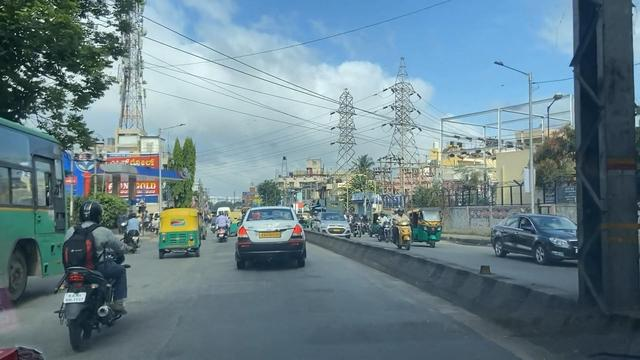LMV: (61, 205, 129, 326), (237, 206, 302, 268), (159, 208, 203, 260)
RoadDamages: (153, 280, 230, 350)
